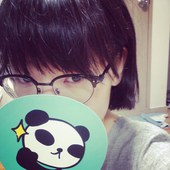face: (1, 29, 104, 152)
